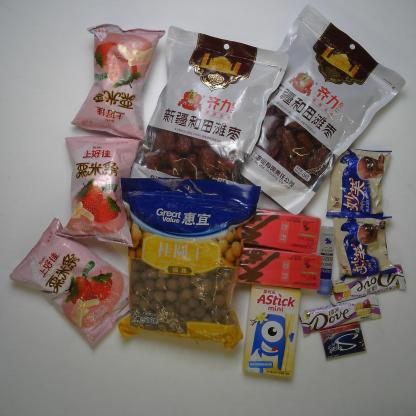Chocolate: (299, 289, 382, 337), (329, 262, 409, 307)
Dessert: (240, 282, 305, 380), (330, 203, 398, 282), (324, 147, 395, 220)
Dried Food: (214, 4, 408, 217), (124, 25, 292, 202), (115, 174, 262, 351)
Gum: (318, 321, 370, 361)
Instant Drink: (214, 242, 324, 291), (219, 205, 324, 256)
Puffed Food: (9, 216, 143, 350), (50, 124, 144, 249), (70, 23, 167, 142)
Stationery: (315, 222, 337, 297)
